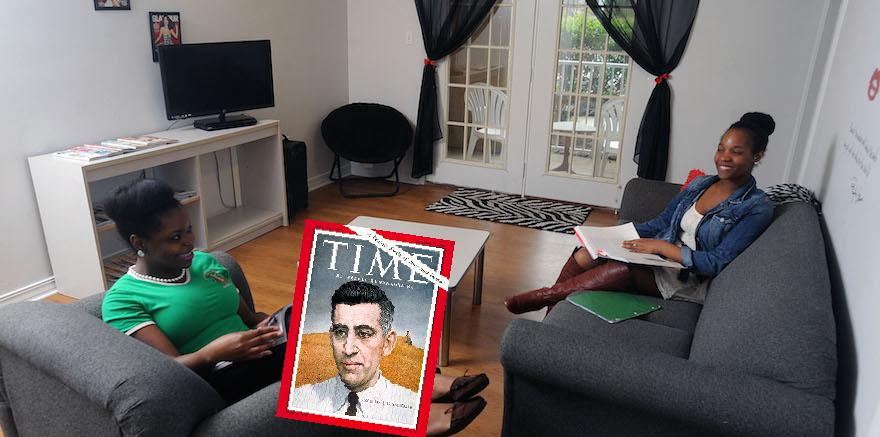times: (273, 220, 455, 437)
